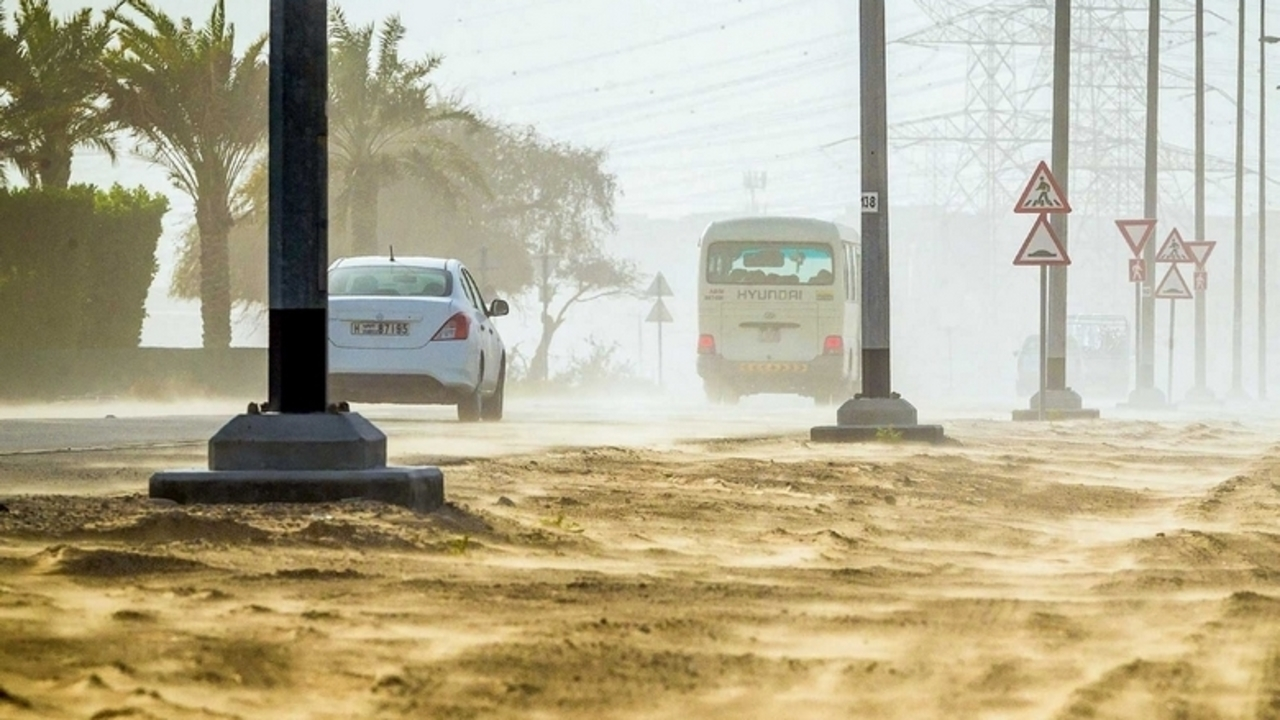bus: (692, 216, 853, 409)
car: (329, 254, 513, 419), (1011, 334, 1084, 395)
truck: (1066, 311, 1133, 398)
